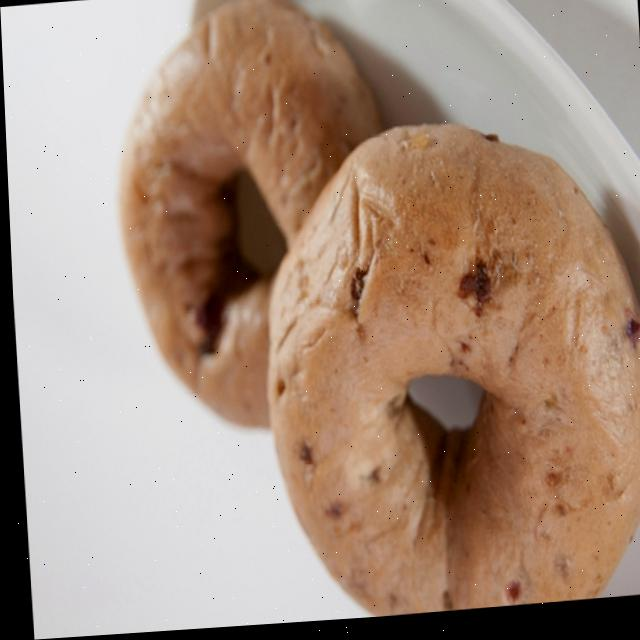面包点心: (21, 0, 640, 639)
